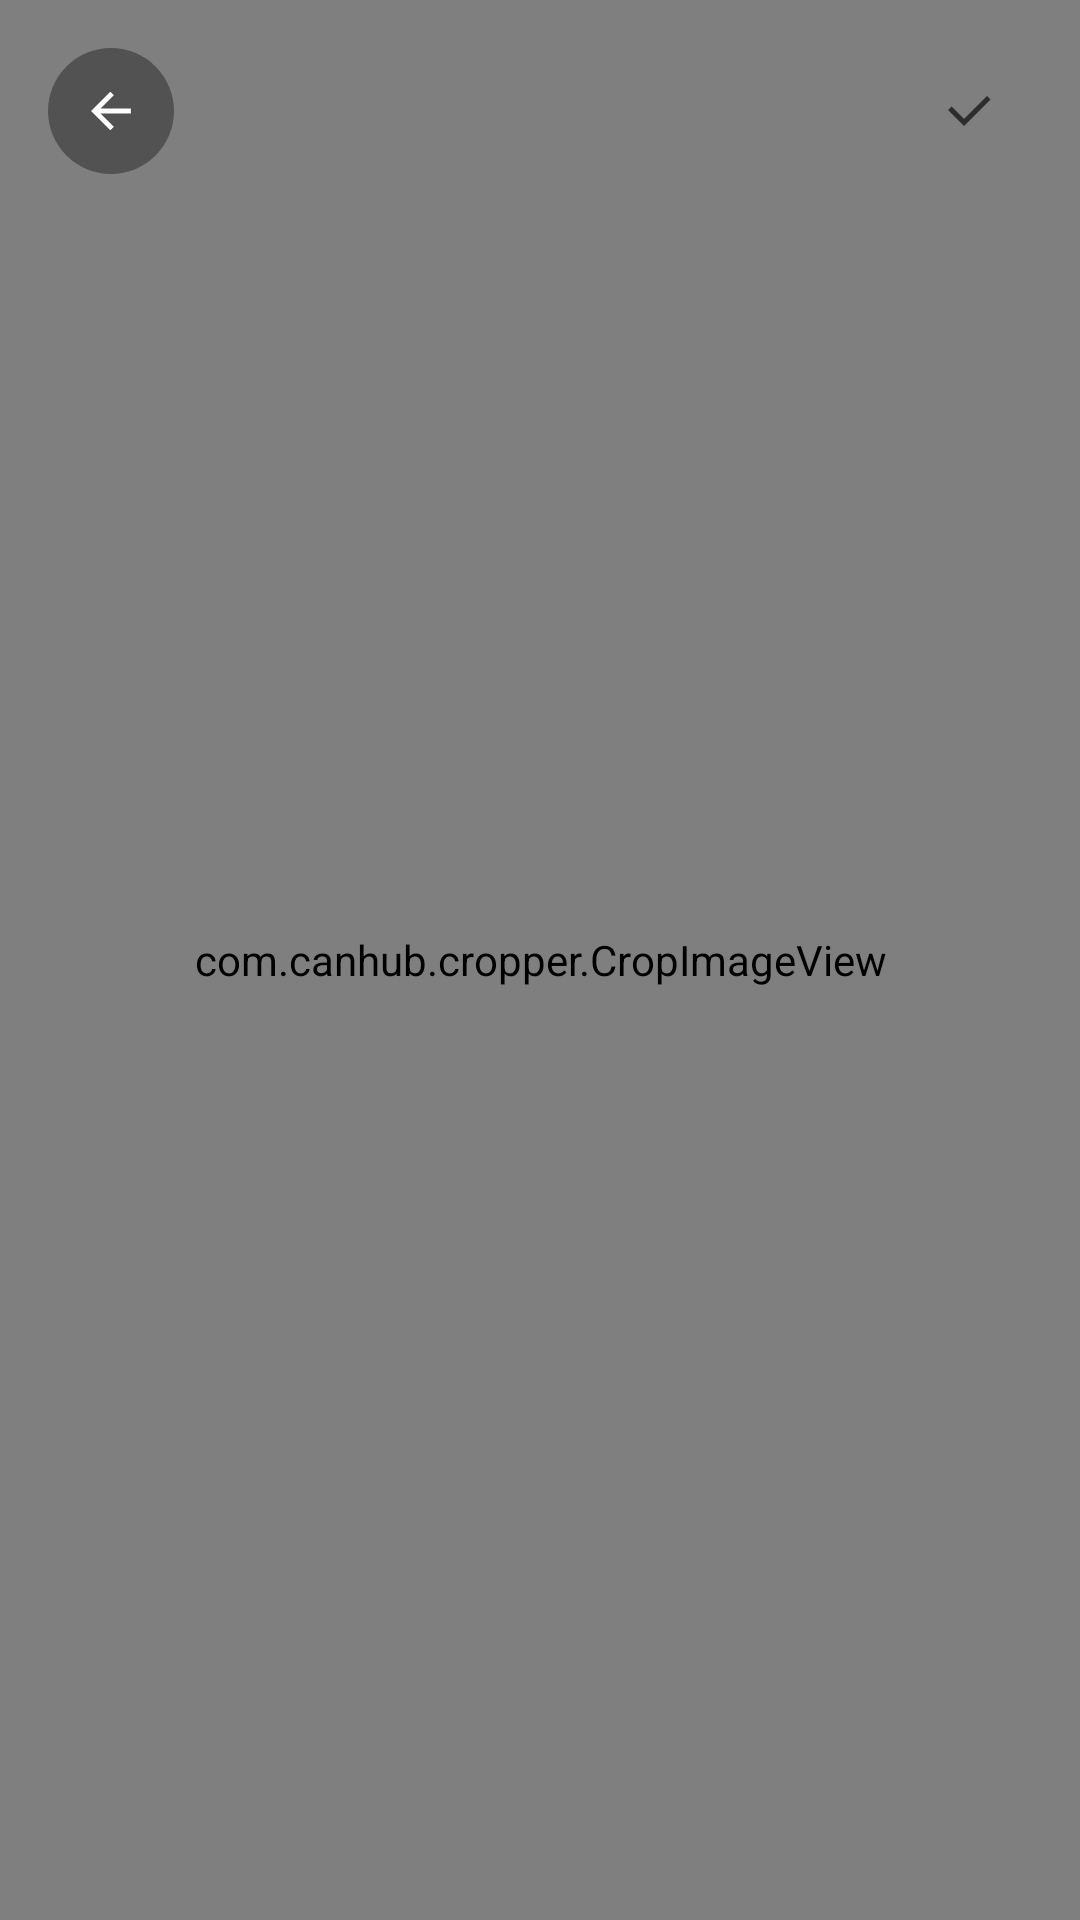

Point at icon controls on the screen. Image size 1080px×1920px, points as (x,y).
Apply: (969,111)
Cancel: (111,111)
